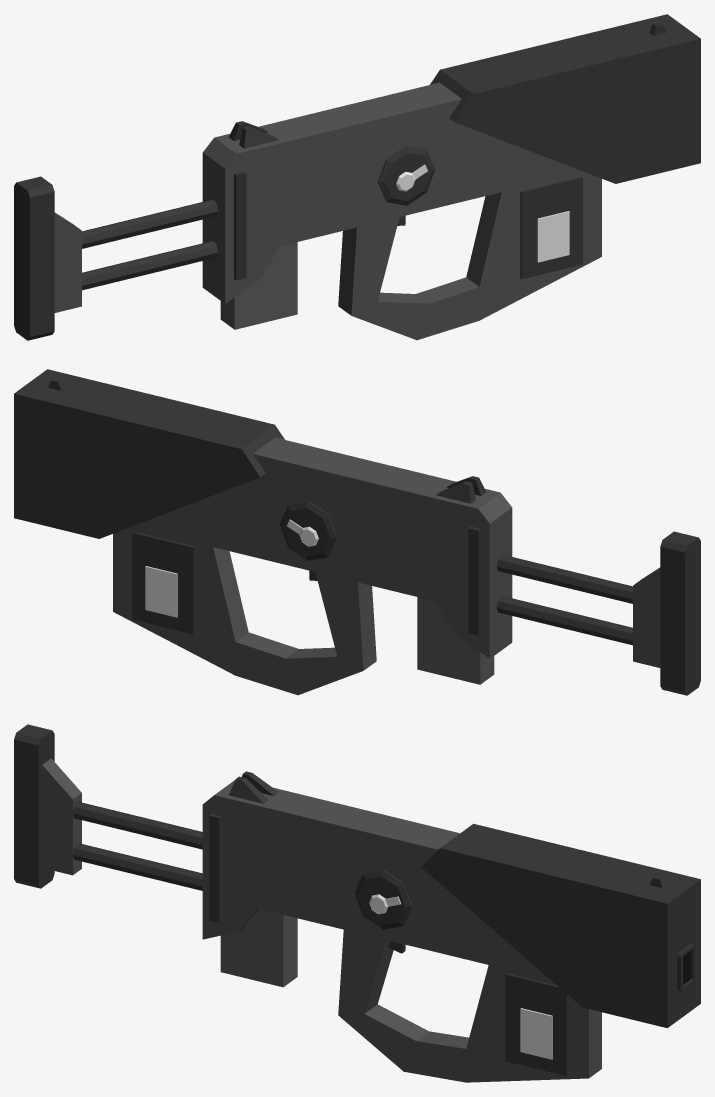
The model's file is Rifle_B_V1.FBX.
3 views of the same model, one above another, from view 1: azimuth 30°, elevation 25°; view 2: azimuth 150°, elevation 25°; view 3: azimuth 330°, elevation 25° (orthographic).
Parts seen in each view (by area): view 1: Rifle_B_V1, Magazine; view 2: Rifle_B_V1, Magazine; view 3: Rifle_B_V1, Magazine.
Boxes of the visible parts, left/top/right/bottom form: Rifle_B_V1: left=14, top=14, right=700, bottom=340; Magazine: left=220, top=242, right=297, bottom=329; Rifle_B_V1: left=14, top=369, right=700, bottom=695; Magazine: left=417, top=597, right=494, bottom=684; Rifle_B_V1: left=14, top=724, right=700, bottom=1082; Magazine: left=220, top=909, right=297, bottom=987.
Bounding box in the file's own units: 361 × 130 × 31.4.
